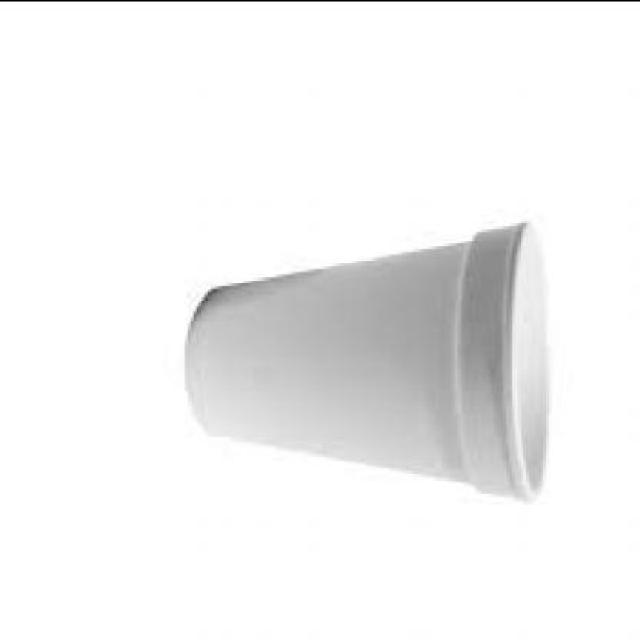PAPER: (188, 222, 554, 501)
